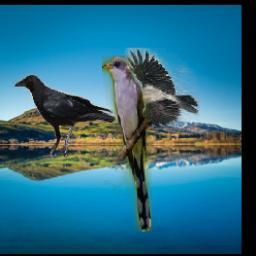Crow: (14, 72, 116, 158), (125, 49, 199, 128)
Cuckoo: (102, 56, 152, 233)
